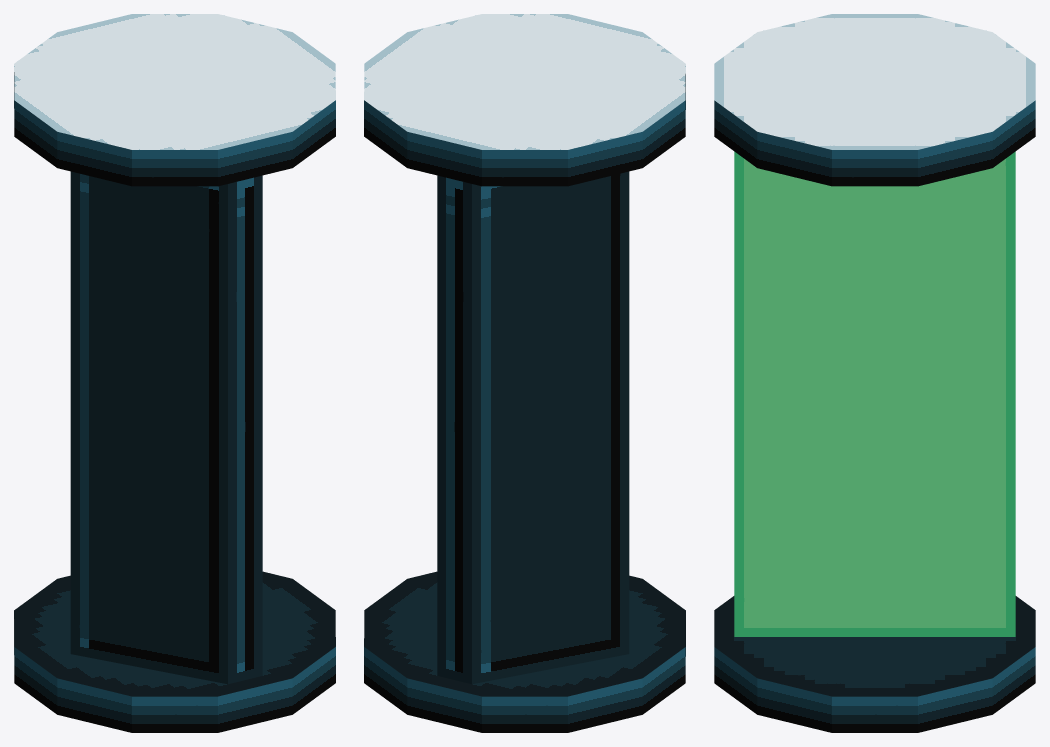
File: SpinningLight.gltf
3 renders of one model, left to right at view 1: azimuth 30°, elevation 25°; view 2: azimuth 150°, elevation 25°; view 3: azimuth 270°, elevation 25°, orthographic.
Parts seen in each view (by area): view 1: LightSpinner, top, bottom; view 2: LightSpinner, top, bottom; view 3: Light, top, bottom.
Boxes of the visible parts, left/top/right/bottom form: LightSpinner: left=70, top=171, right=262, bottom=684; top: left=14, top=14, right=335, bottom=186; bottom: left=14, top=571, right=335, bottom=732; LightSpinner: left=437, top=171, right=629, bottom=684; top: left=364, top=14, right=685, bottom=186; bottom: left=364, top=571, right=685, bottom=732; Light: left=734, top=151, right=1015, bottom=636; top: left=714, top=14, right=1035, bottom=186; bottom: left=714, top=596, right=1035, bottom=732.
Bounding box in the file's own units: 1 × 2 × 1.
1 material, 1 textured.
